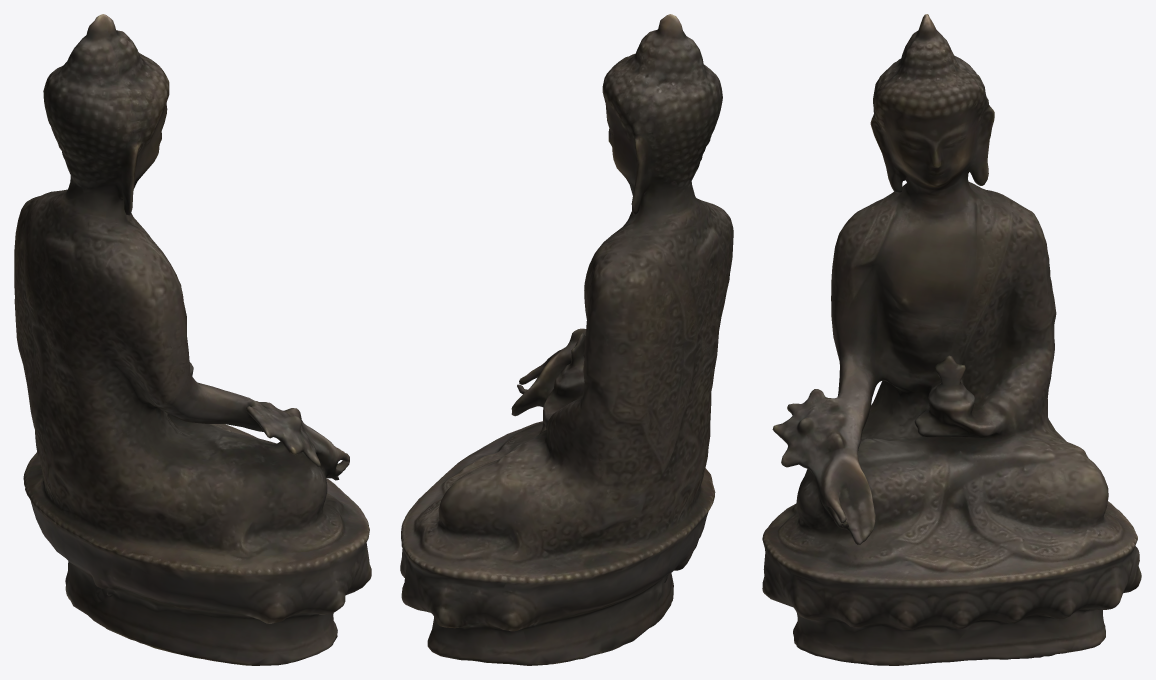
The model's file is medicine-buddha-lod.glb.
3 renders of one model, left to right at view 1: azimuth 30°, elevation 25°; view 2: azimuth 150°, elevation 25°; view 3: azimuth 270°, elevation 25°, orthographic. The views are drawn at different scales.
Parts seen in each view (by area): view 1: Object_2; view 2: Object_2; view 3: Object_2.
Part boxes in pixels (x1=…): Object_2: x1=14, y1=14, x2=371, y2=665; Object_2: x1=400, y1=14, x2=733, y2=665; Object_2: x1=762, y1=14, x2=1141, y2=665.
Bounding box in the file's own units: 0.8228 × 1.81 × 1.1.
Materials: 1 (1 with a texture image).
